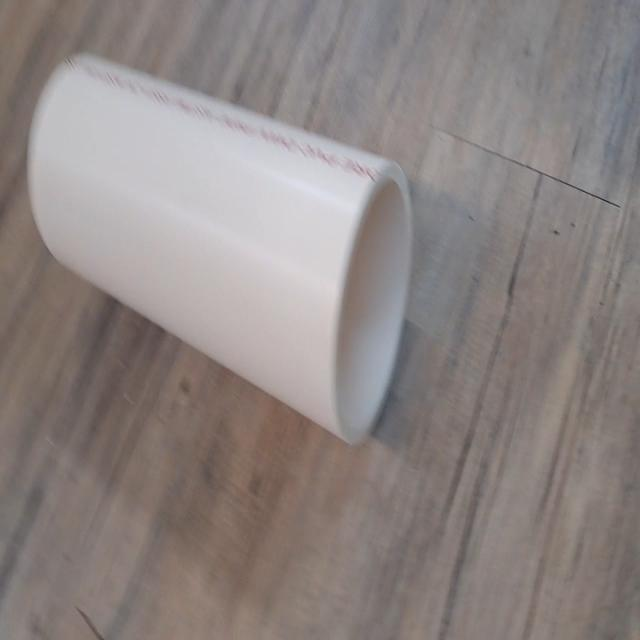CORAL: (24, 46, 421, 451)
